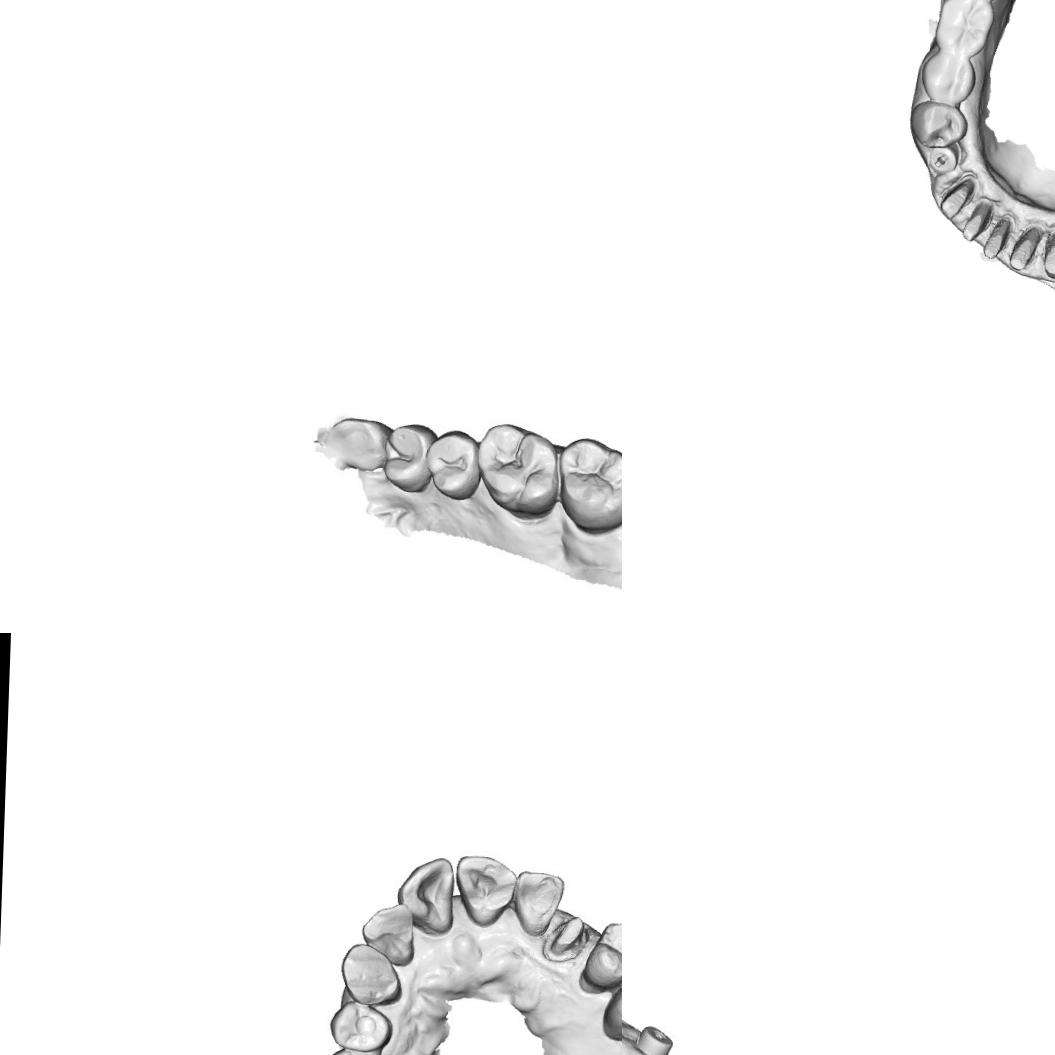canine: (338, 941, 405, 1008)
crown: (544, 912, 590, 962), (934, 174, 979, 220), (1006, 220, 1042, 274), (958, 198, 994, 248), (978, 213, 1014, 263), (1038, 227, 1055, 282)
implant: (629, 1020, 677, 1055)
implant_minus: (922, 142, 961, 175)
incisor: (454, 852, 520, 929), (394, 854, 455, 936), (359, 900, 417, 968), (511, 868, 567, 938)
molar: (472, 418, 559, 520), (550, 435, 622, 535), (930, 0, 998, 60)
premolar: (426, 428, 480, 502), (381, 420, 435, 493), (328, 999, 394, 1052), (916, 51, 978, 107), (906, 98, 969, 150), (580, 919, 622, 992), (601, 963, 622, 1036)
